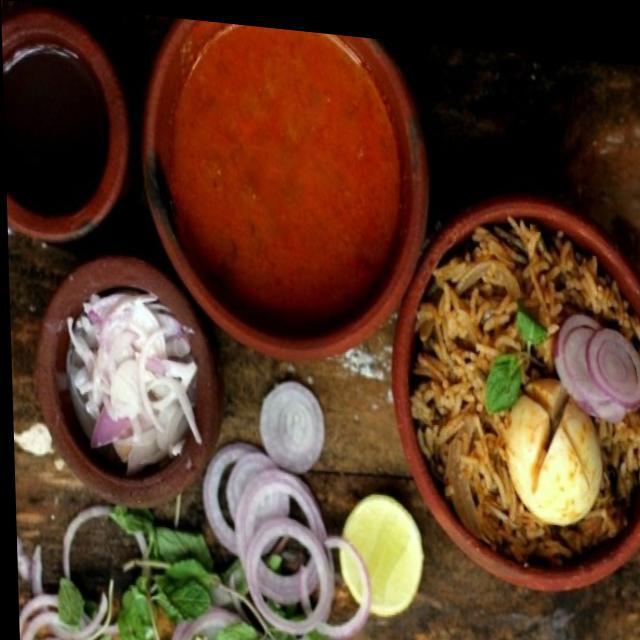BIRIYANI: (417, 214, 640, 576)
CURD: (66, 292, 200, 469)
CURRY: (159, 28, 399, 323)
EGG: (503, 378, 602, 528)
